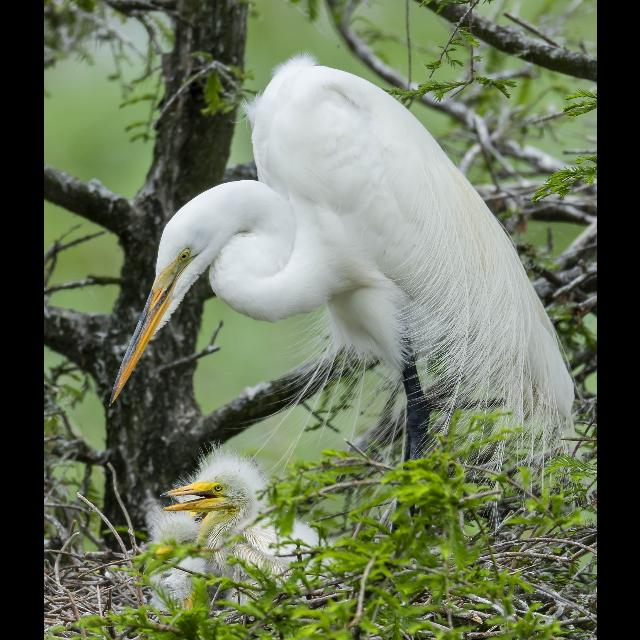egret: (88, 45, 580, 538)
